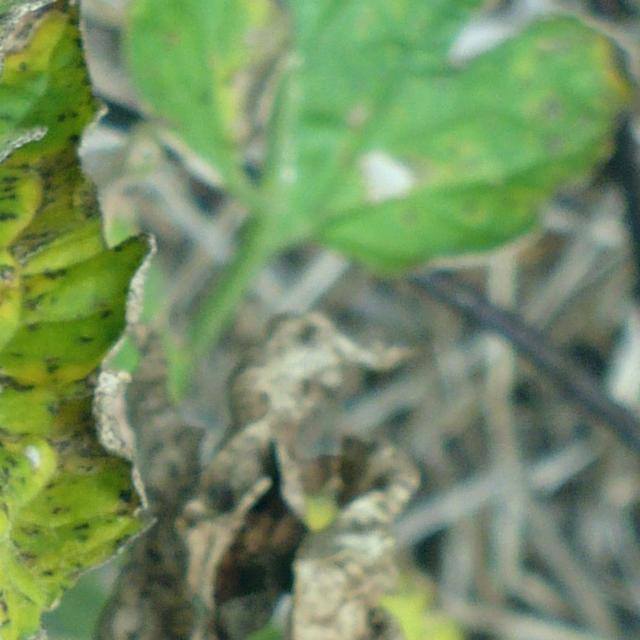Tomato Septoria leaf spot: (0, 0, 163, 640)
